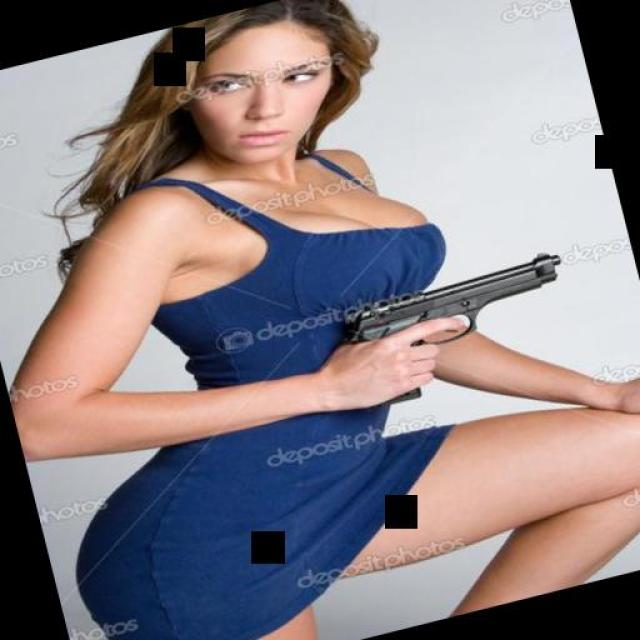gun: (319, 247, 590, 415)
